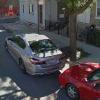Car: (2, 27, 71, 84)
